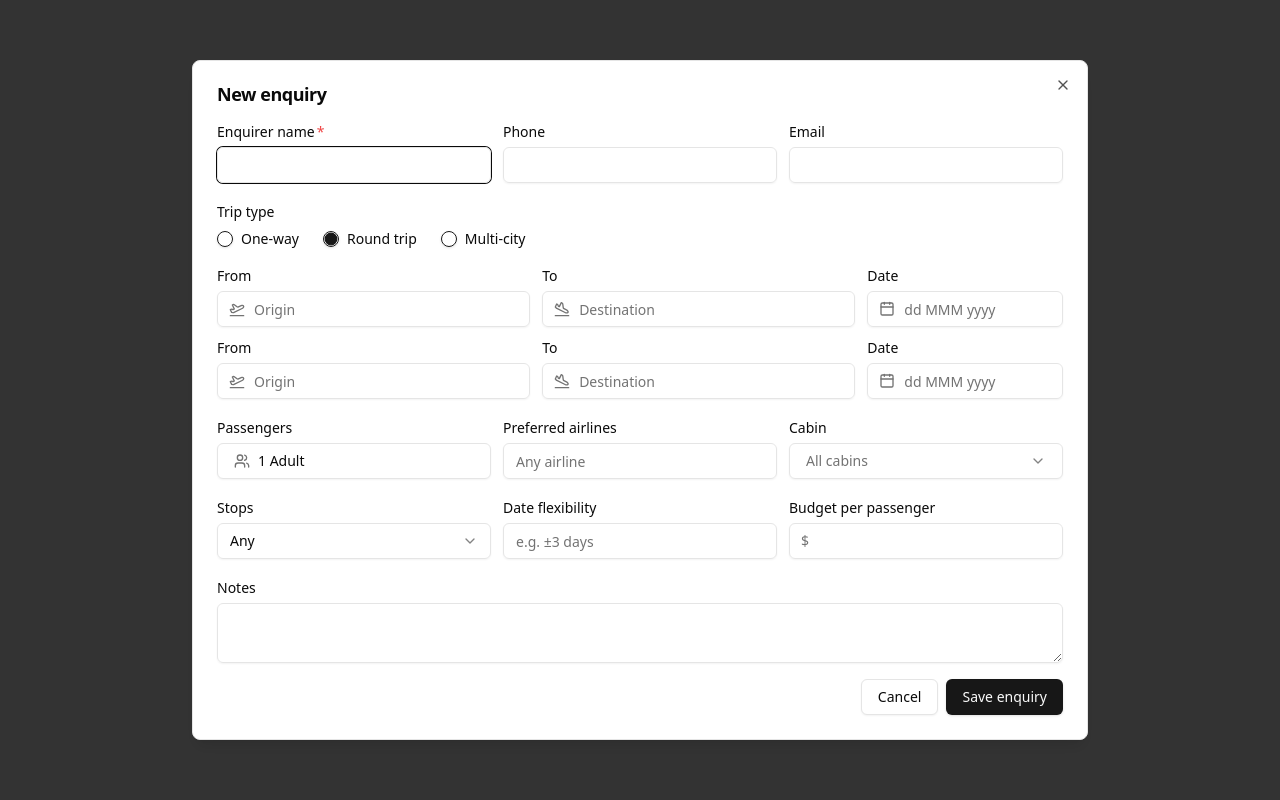
Test: EnquiryDialog trip fields › resets the return-leg flag when round trip is re-entered with a freshly synthesized leg 2
Step 1. Type "IAH" into the dropdown named "From 1" → (374, 309), box [217,291,530,327]
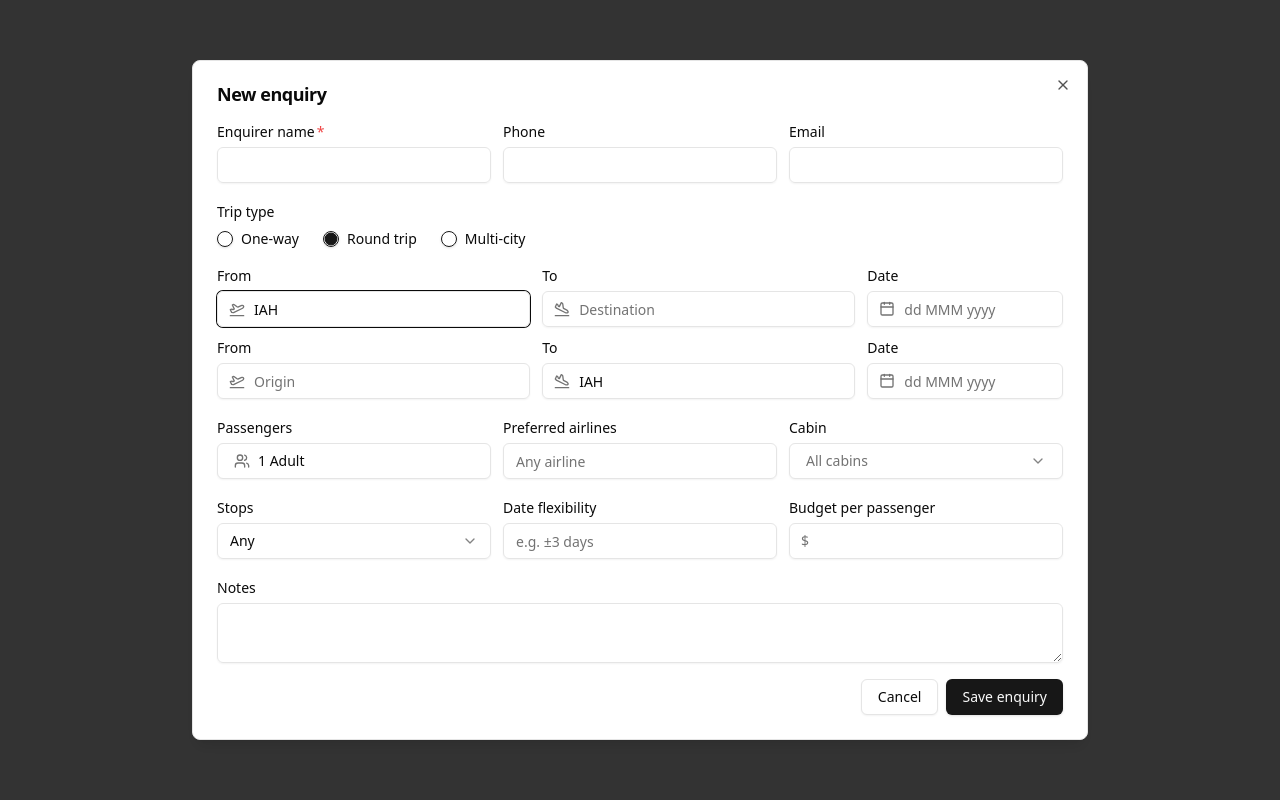
Step 2. Type "COK" into the dropdown named "To 1" → (699, 309), box [542,291,855,327]
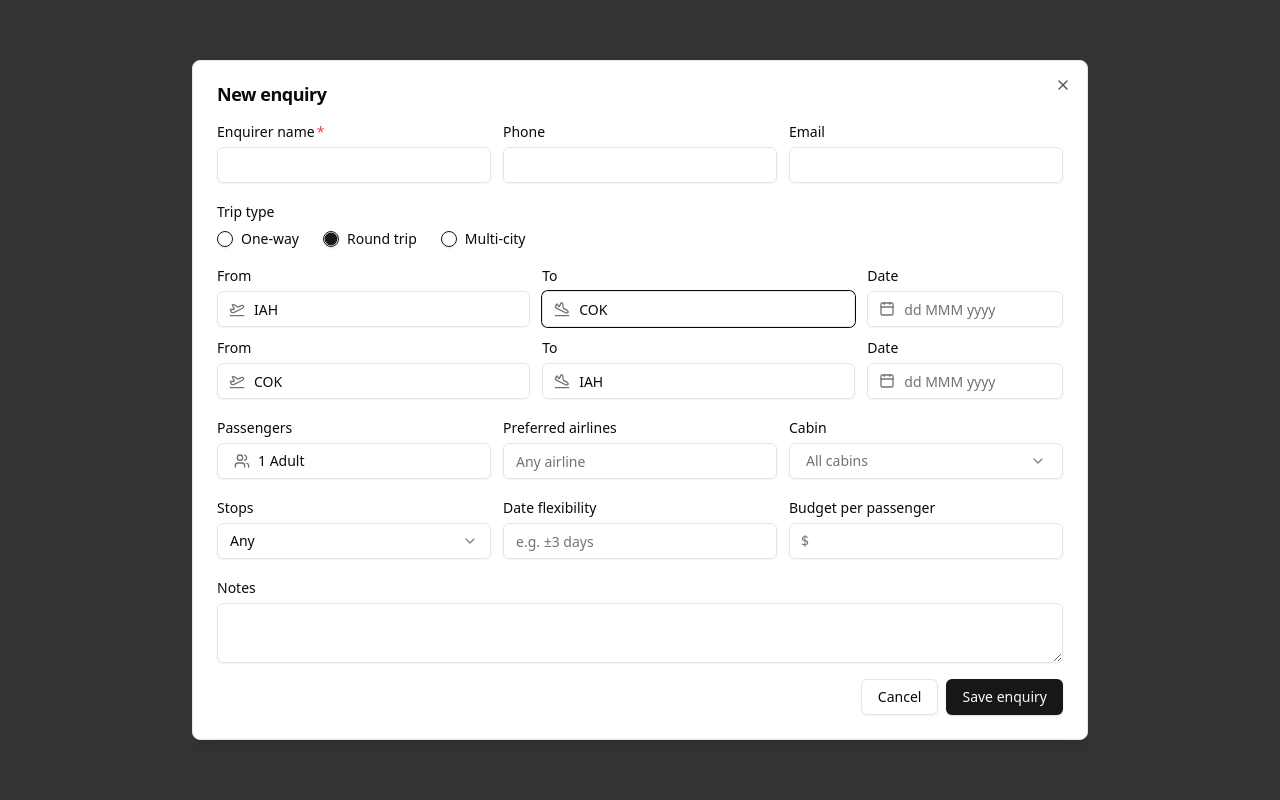
expect the dropdown named "From 2" holds "COK": met, box [217,363,530,399]
Hand-edit leg 2 — pins the flag true.
Step 3. Type "X" into the dropdown named "To 2" → (699, 381), box [542,363,855,399]
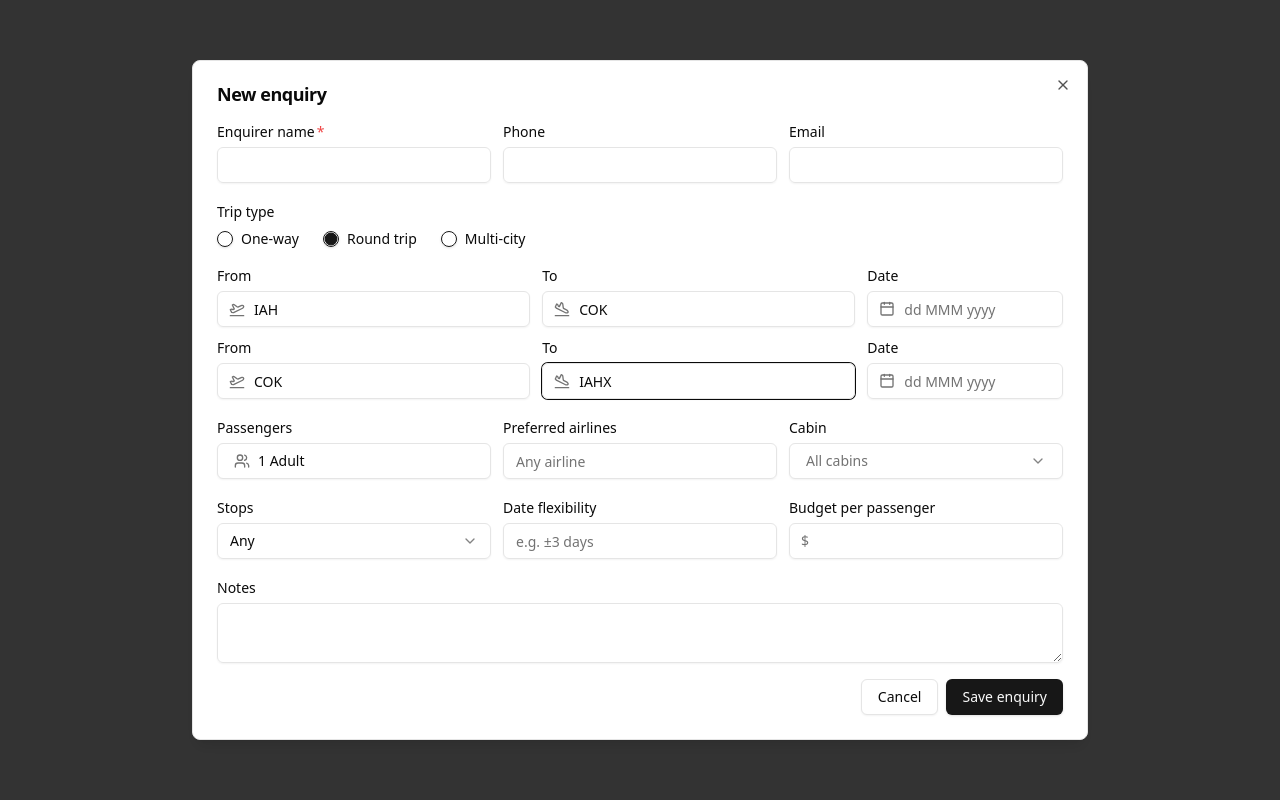
expect the dropdown named "To 2" holds "IAHX": met, box [542,363,855,399]
Drop to one-way (leg 2 is discarded)...
Step 4. Click the radio button named "One-way" next to "One-way" → (225, 239), box [217,231,233,247]
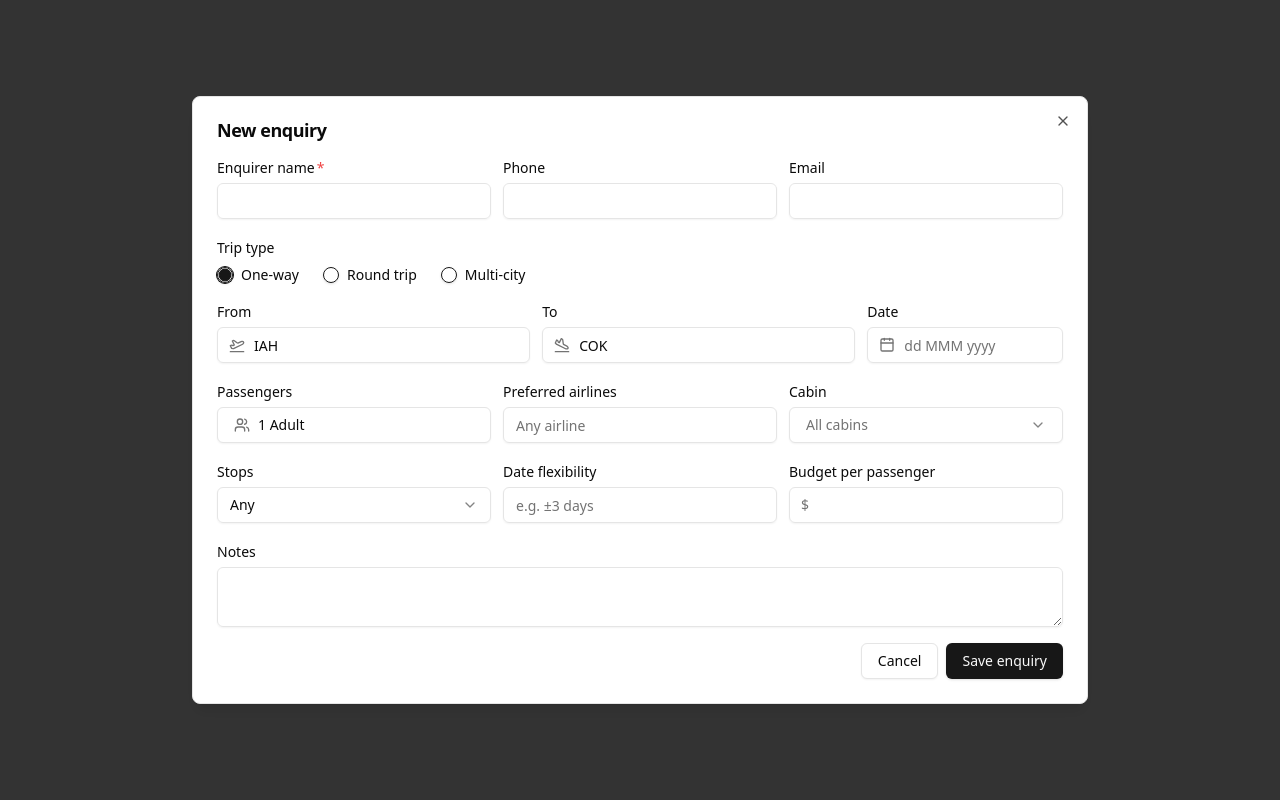
...then back to round trip — leg 2 is freshly re-synthesized from leg 1, never hand-edited.
Step 5. Click the radio button named "Round trip" next to "Round trip" → (331, 275), box [323,267,339,283]
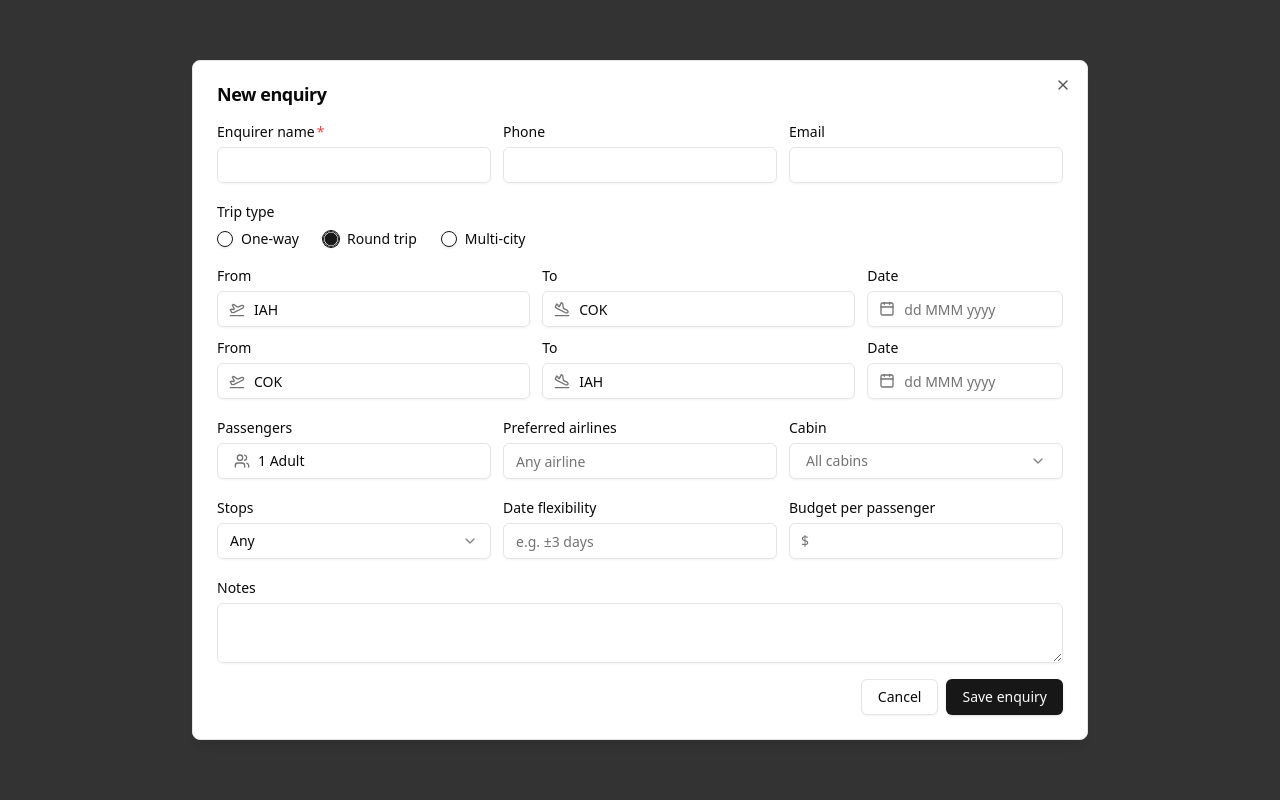
expect the dropdown named "From 2" holds "COK": met, box [217,363,530,399]
Edit leg 1 again. The freshly synthesized leg 2 was never hand-edited, so this must mirror.
Step 6. Replace the text in the dropdown named "From 1" with "DXB" → (374, 309), box [217,291,530,327]
Step 7. Replace the text in the dropdown named "To 1" with "LHR" → (699, 309), box [542,291,855,327]
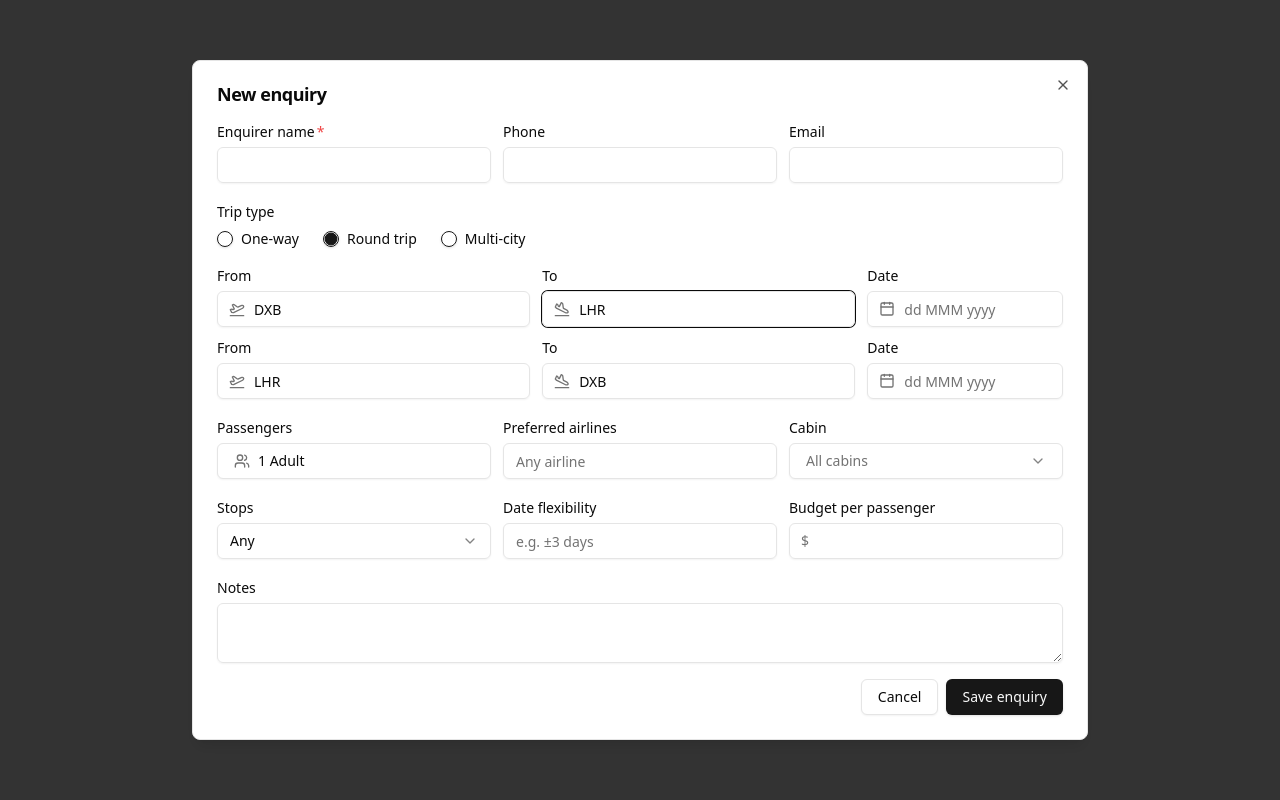
expect the dropdown named "To 2" holds "DXB": met, box [542,363,855,399]
expect the dropdown named "From 2" holds "LHR": met, box [217,363,530,399]
